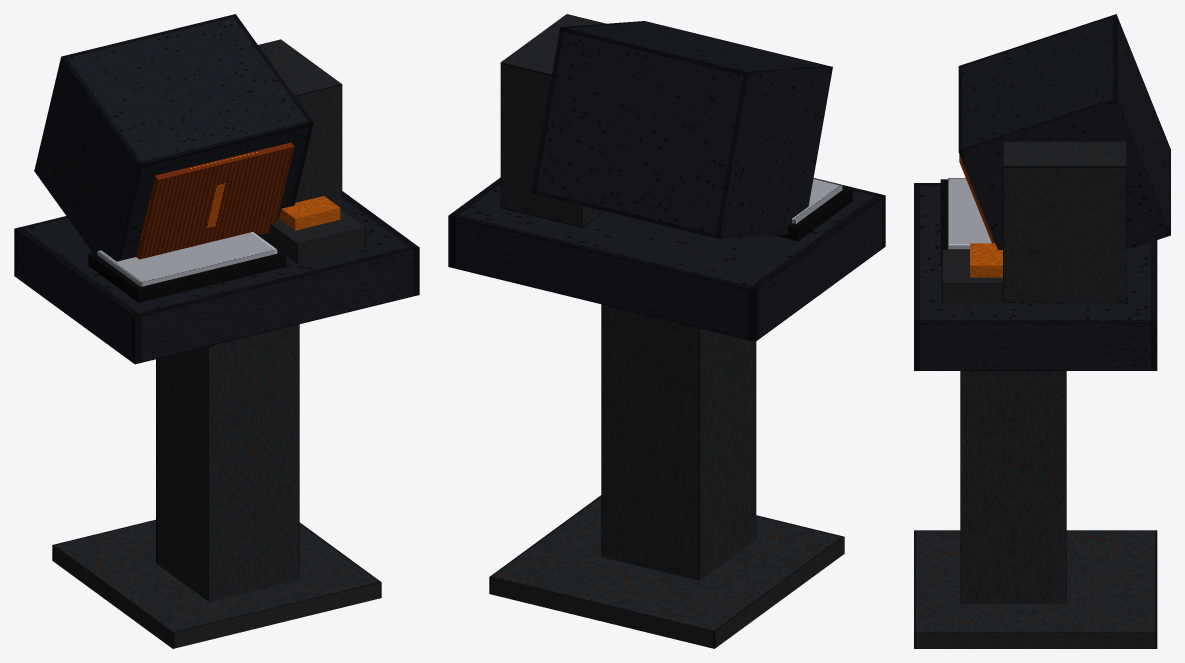
Rendered from memory_extraction_terminal.glb.
3 renders of one model, left to right at view 1: azimuth 30°, elevation 25°; view 2: azimuth 150°, elevation 25°; view 3: azimuth 270°, elevation 25°, orthographic. The views are drawn at different scales.
Parts seen in each view (by area): view 1: memory_extraction_terminal; view 2: memory_extraction_terminal; view 3: memory_extraction_terminal.
Boxes of the visible parts, x1=… form: memory_extraction_terminal: x1=14, y1=14, x2=419, y2=648; memory_extraction_terminal: x1=448, y1=14, x2=885, y2=648; memory_extraction_terminal: x1=914, y1=14, x2=1170, y2=648.
Size of the model in its own units: 0.75 by 1.31 by 0.5811.
1 material, 1 textured.
